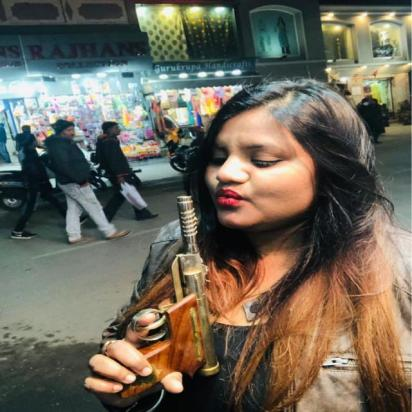Gun: (90, 191, 230, 404)
